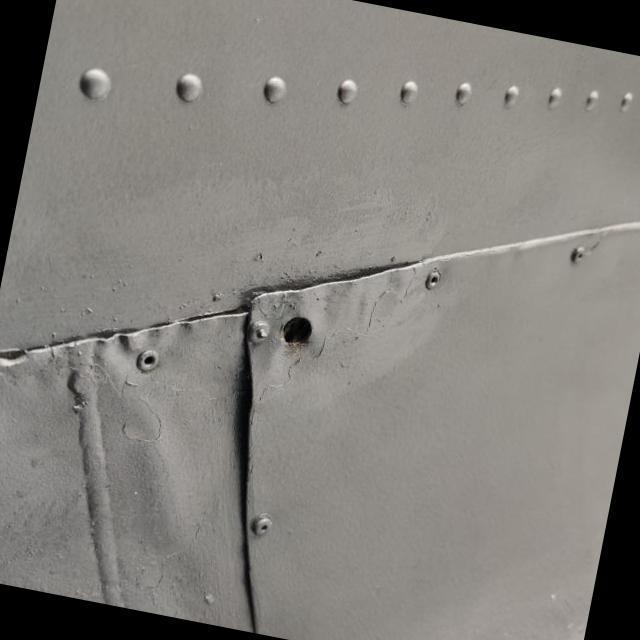Fastener Damage: (232, 264, 358, 393)
